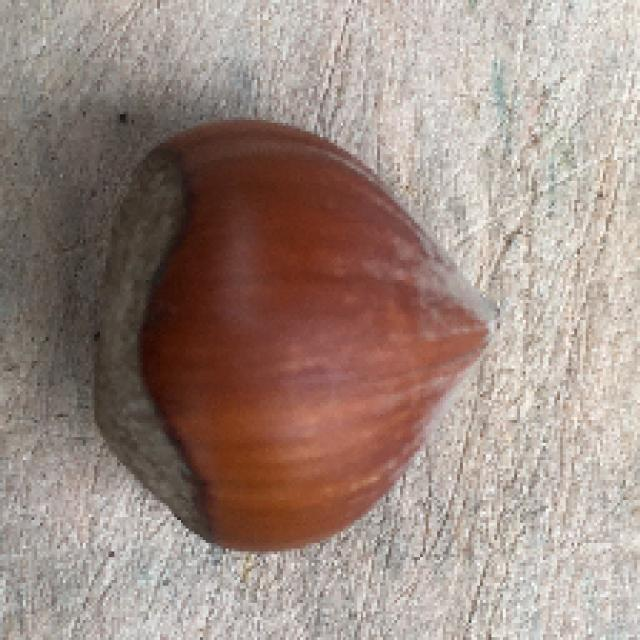qualityHazelnut: (86, 115, 496, 562)
